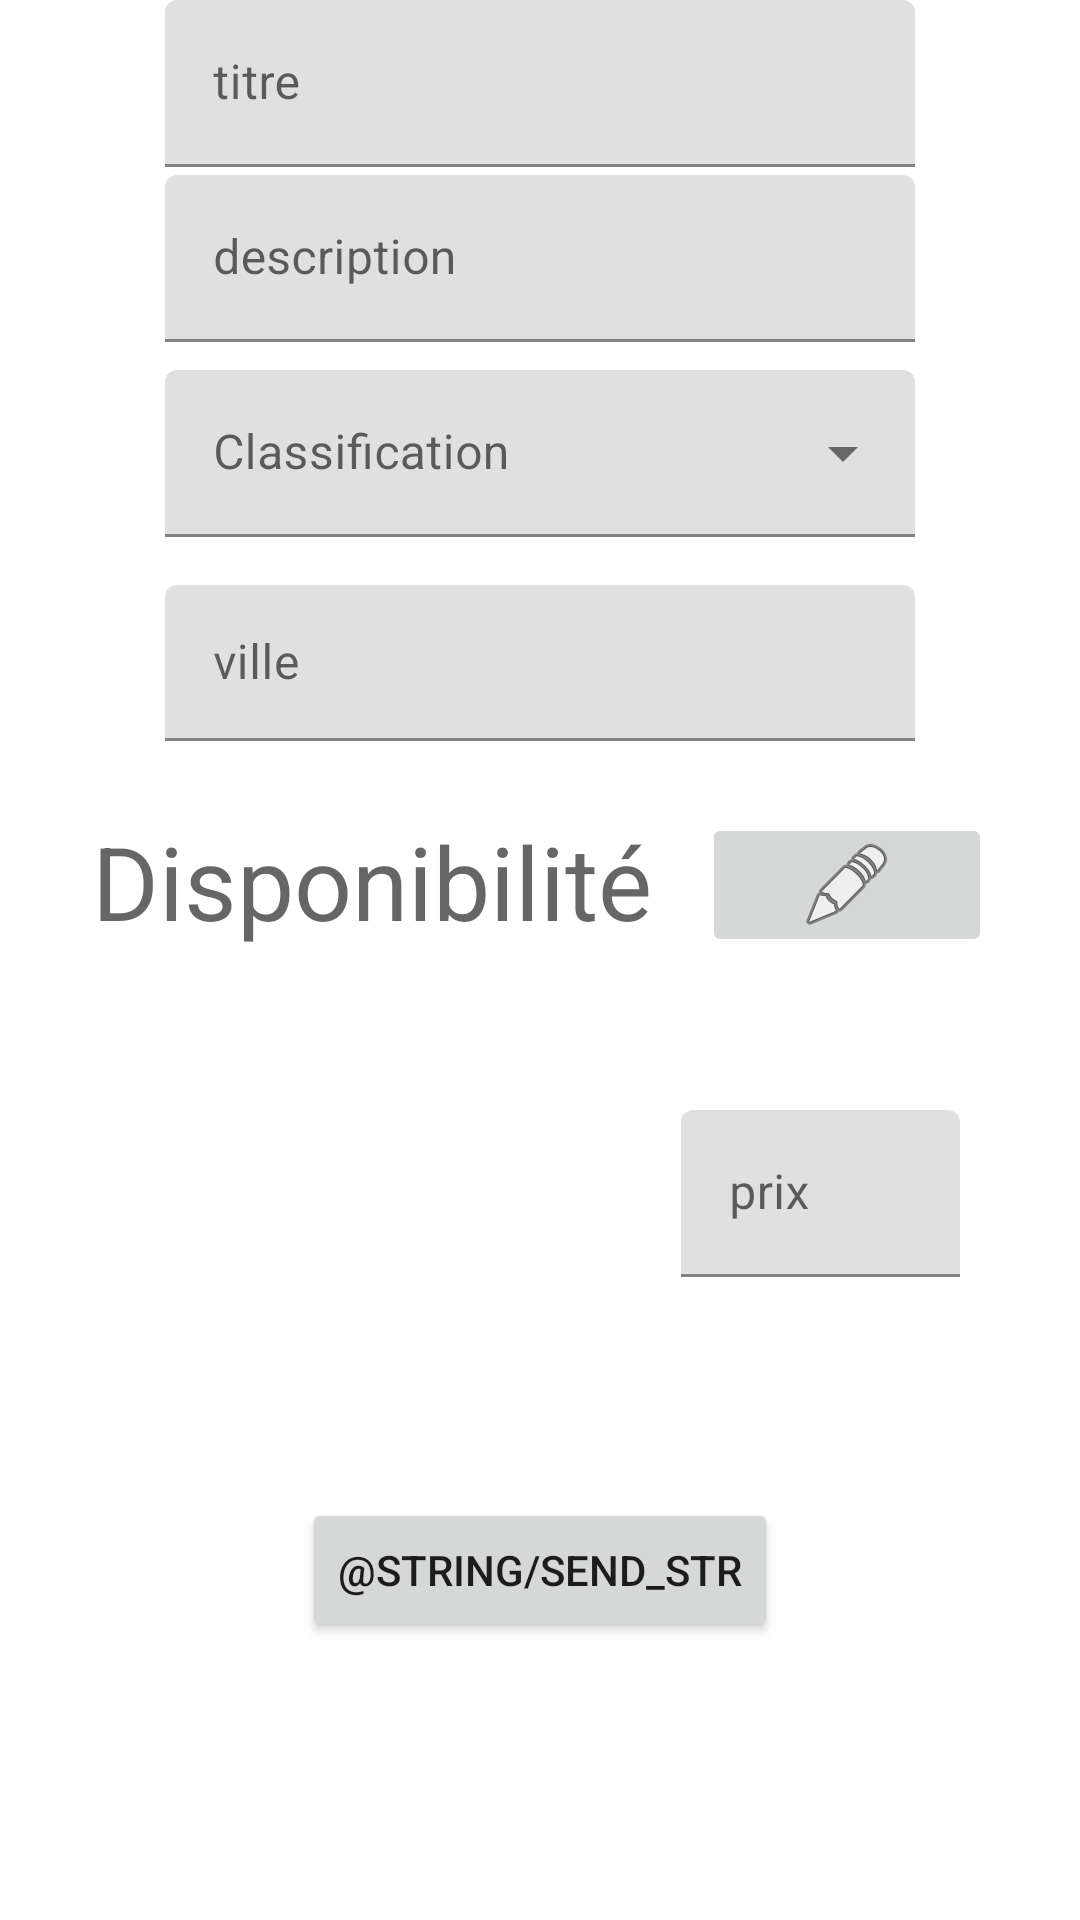

Icon click points for this 1080px×1920px phone screenshot, format (x=x, y=y):
edit: (x=847, y=885)
